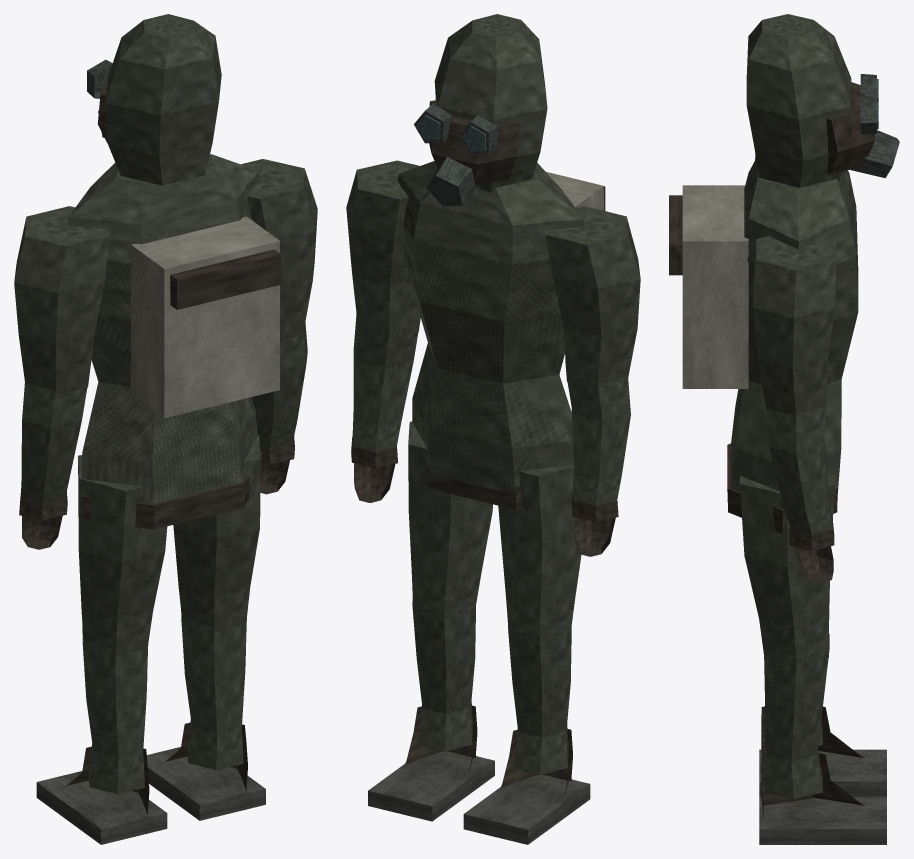
File: watchman_rework_lod.gltf
3 views of the same model, side by side, from view 1: azimuth 30°, elevation 25°; view 2: azimuth 150°, elevation 25°; view 3: azimuth 270°, elevation 25° (orthographic). The views are drawn at different scales.
Visible parts, largest first — view 1: Coat, Head, ShinL, ShinR, ArmL, LegL, LegR, ForearmL, ArmR, ForearmR; view 2: Coat, Head, ShinL, ShinR, ArmL, LegL, LegR, ArmR, ForearmL, ForearmR; view 3: Coat, Head, ShinR, ArmR, LegR, ForearmR, ShinL.
Boxes of the visible parts, box(x1,y1,x2,y2) form: Coat: box(67, 154, 281, 529); Head: box(87, 14, 221, 185); ShinL: box(36, 626, 167, 844); ShinR: box(146, 611, 265, 820); ArmL: box(14, 206, 110, 394); LegL: box(78, 455, 167, 656); LegR: box(173, 435, 260, 631); ForearmL: box(19, 383, 87, 549); ArmR: box(241, 159, 317, 340); ForearmR: box(251, 322, 307, 494); Coat: box(397, 161, 605, 509); Head: box(414, 14, 547, 206); ShinL: box(463, 626, 590, 844); ShinR: box(368, 600, 494, 821); ArmL: box(545, 206, 640, 389); LegL: box(498, 464, 581, 644); LegR: box(408, 421, 492, 621); ArmR: box(346, 160, 420, 338); ForearmL: box(565, 360, 630, 556); ForearmR: box(351, 314, 419, 502); Coat: box(669, 159, 858, 533); Head: box(746, 14, 899, 187); ShinR: box(759, 633, 886, 844); ArmR: box(753, 236, 836, 415); LegR: box(740, 474, 834, 657); ForearmR: box(766, 407, 834, 582); ShinL: box(759, 706, 886, 797).
Size of the model in its own units: 0.788 by 1.95 by 0.5244.
1 material, 1 textured.
